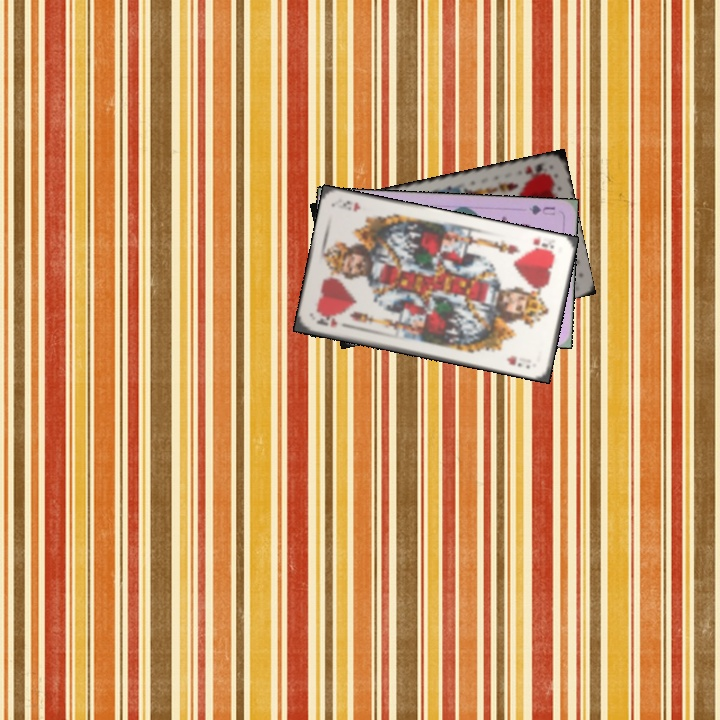GU: (525, 201, 557, 217)
HK: (527, 234, 558, 256), (312, 311, 339, 329), (521, 159, 547, 177)
